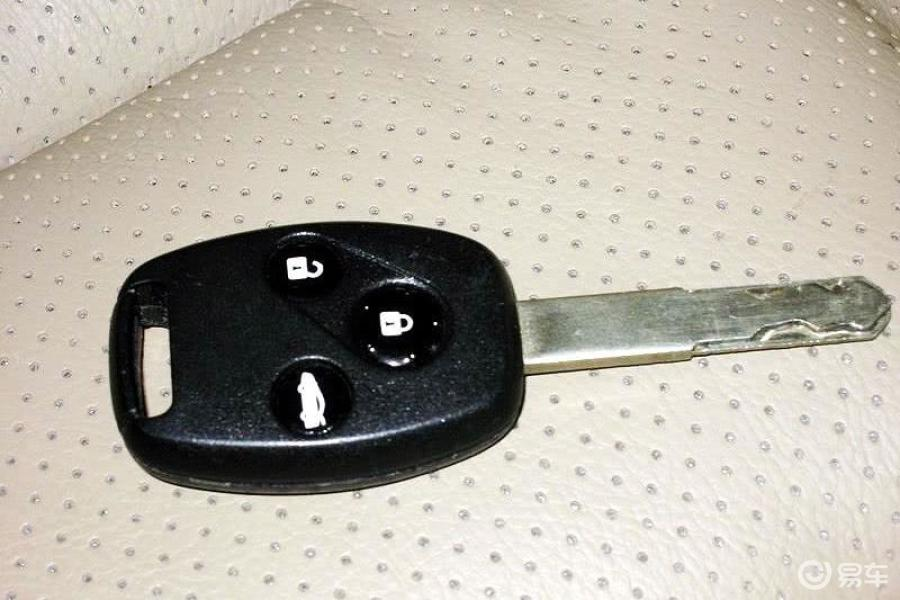key: (73, 207, 900, 511)
